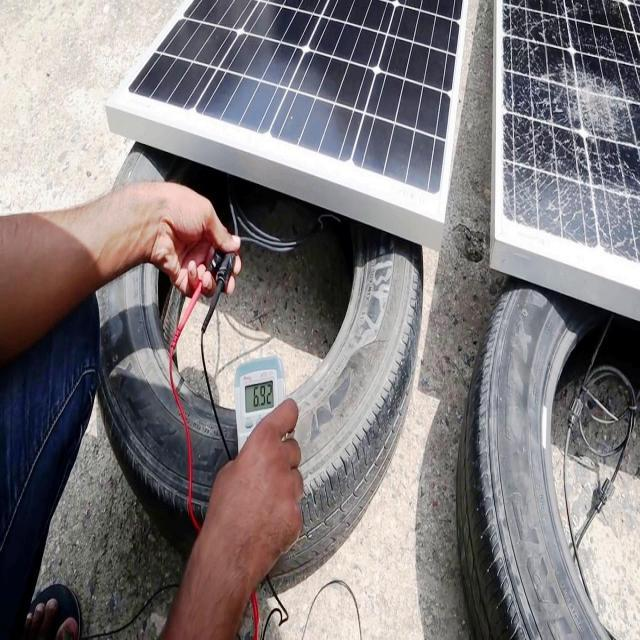faulty: (493, 3, 640, 273)
no faulty: (128, 4, 468, 202)
